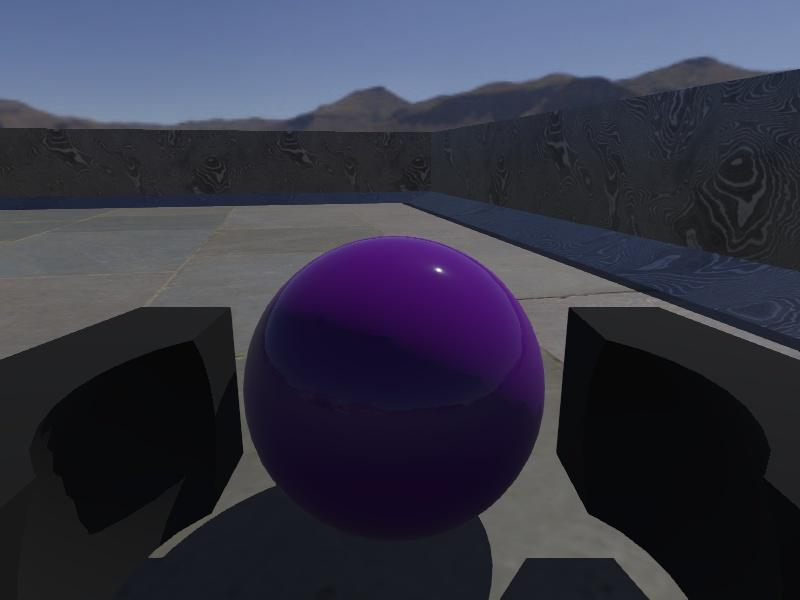violet ball: (242, 236, 547, 543)
